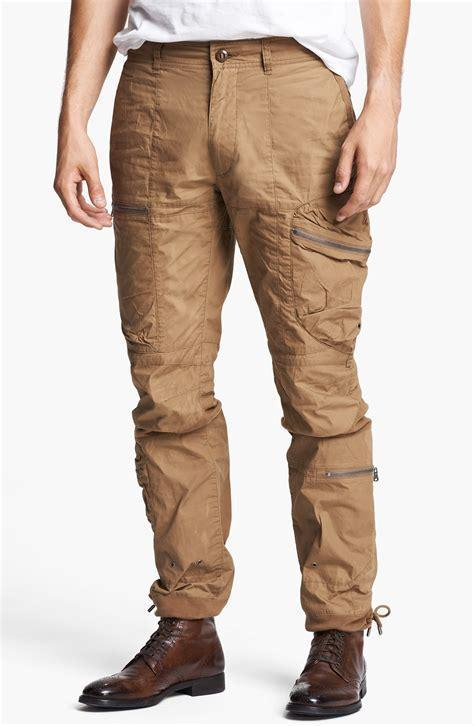pants: (109, 39, 378, 630)
